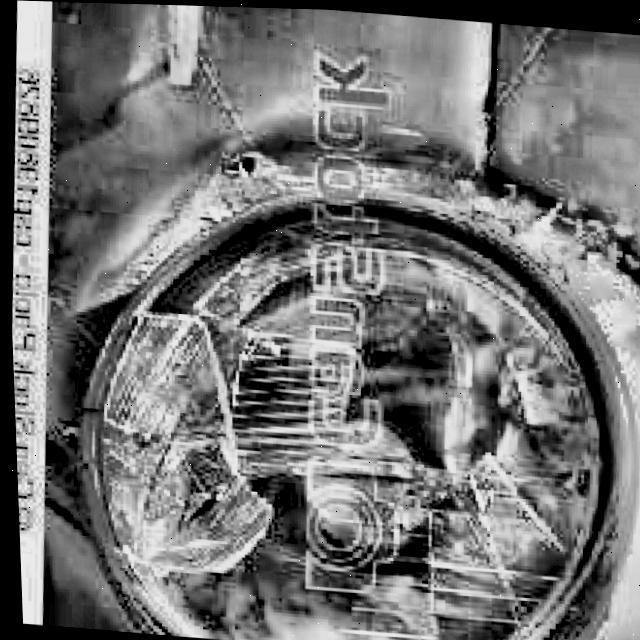head_lamp: (135, 297, 566, 640)
